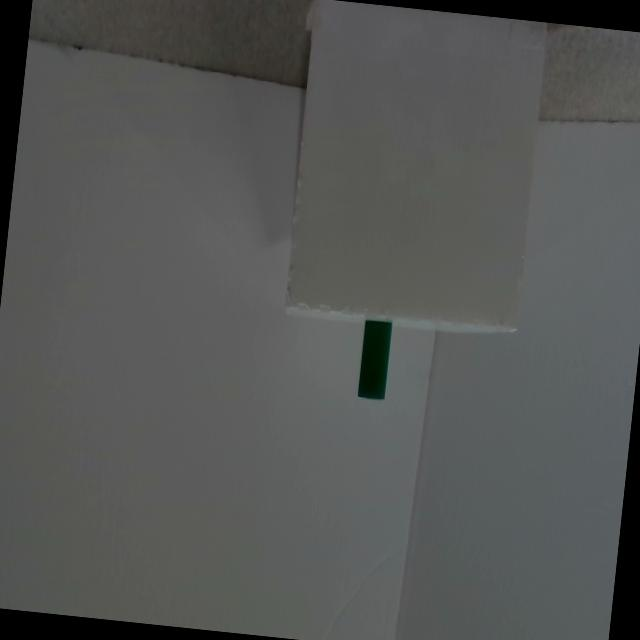green_cylinder: (357, 319, 392, 400)
